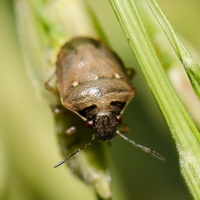insect: (45, 37, 134, 139)
